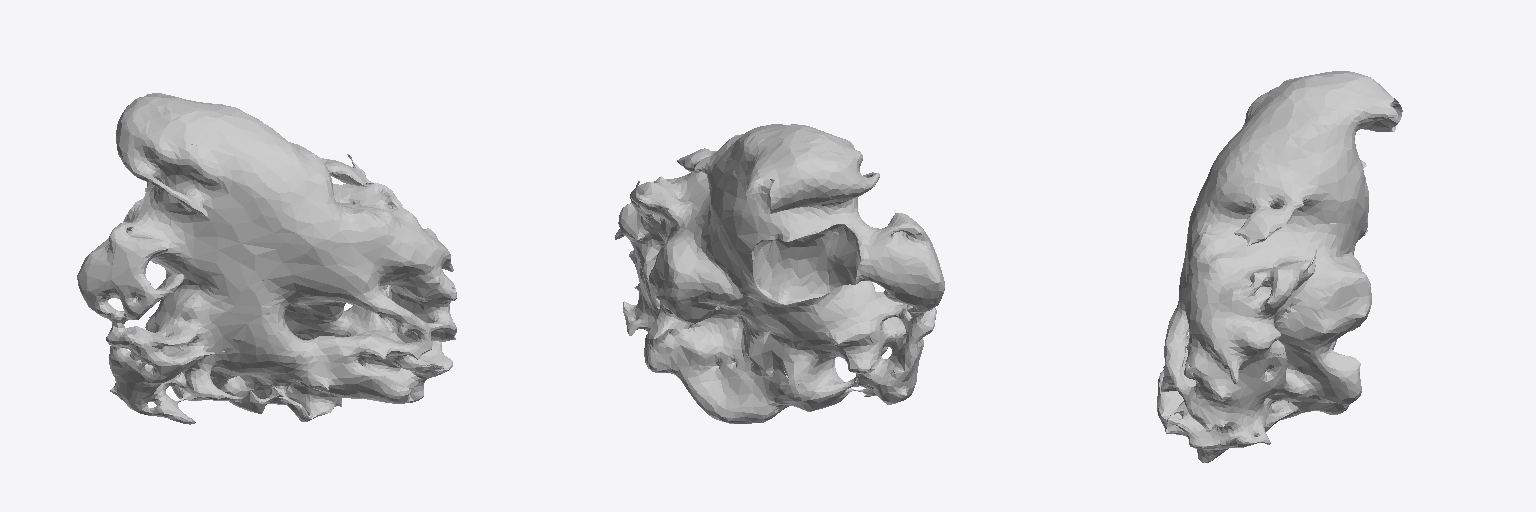
3 views of the same model, side by side, from view 1: azimuth 30°, elevation 25°; view 2: azimuth 150°, elevation 25°; view 3: azimuth 270°, elevation 25° (orthographic).
Visible parts, largest first — view 1: Polygonal_Model_8_Triangles_0; view 2: Polygonal_Model_8_Triangles_0; view 3: Polygonal_Model_8_Triangles_0.
Part boxes in pixels (left/top/right/bottom): Polygonal_Model_8_Triangles_0: left=77, top=93, right=456, bottom=424; Polygonal_Model_8_Triangles_0: left=615, top=124, right=944, bottom=423; Polygonal_Model_8_Triangles_0: left=1157, top=71, right=1402, bottom=462.
Size of the model in its own units: 1.86 by 1.5 by 1.13.